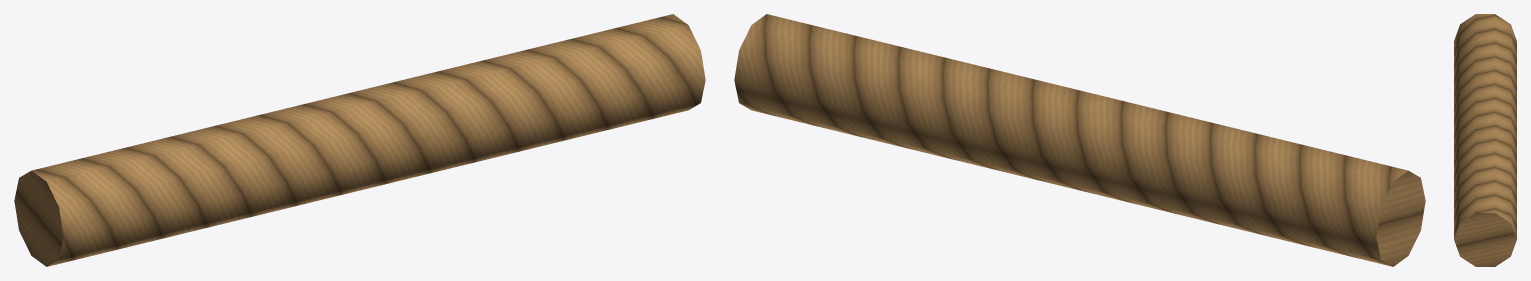
Rendered from Rope_Segment.glb.
The picture shows the model from 3 angles, left to right: view 1: azimuth 30°, elevation 25°; view 2: azimuth 150°, elevation 25°; view 3: azimuth 270°, elevation 25°; orthographic projection. The views are drawn at different scales.
Visible parts, largest first — view 1: Rope_Segment; view 2: Rope_Segment; view 3: Rope_Segment.
Boxes of the visible parts, x1,y1,x2,y2 form: Rope_Segment: [14, 14, 705, 266]; Rope_Segment: [734, 14, 1425, 266]; Rope_Segment: [1454, 14, 1516, 266].
Size of the model in its own units: 0.3 by 0.038 by 0.04.
Materials: 1 (1 with a texture image).
